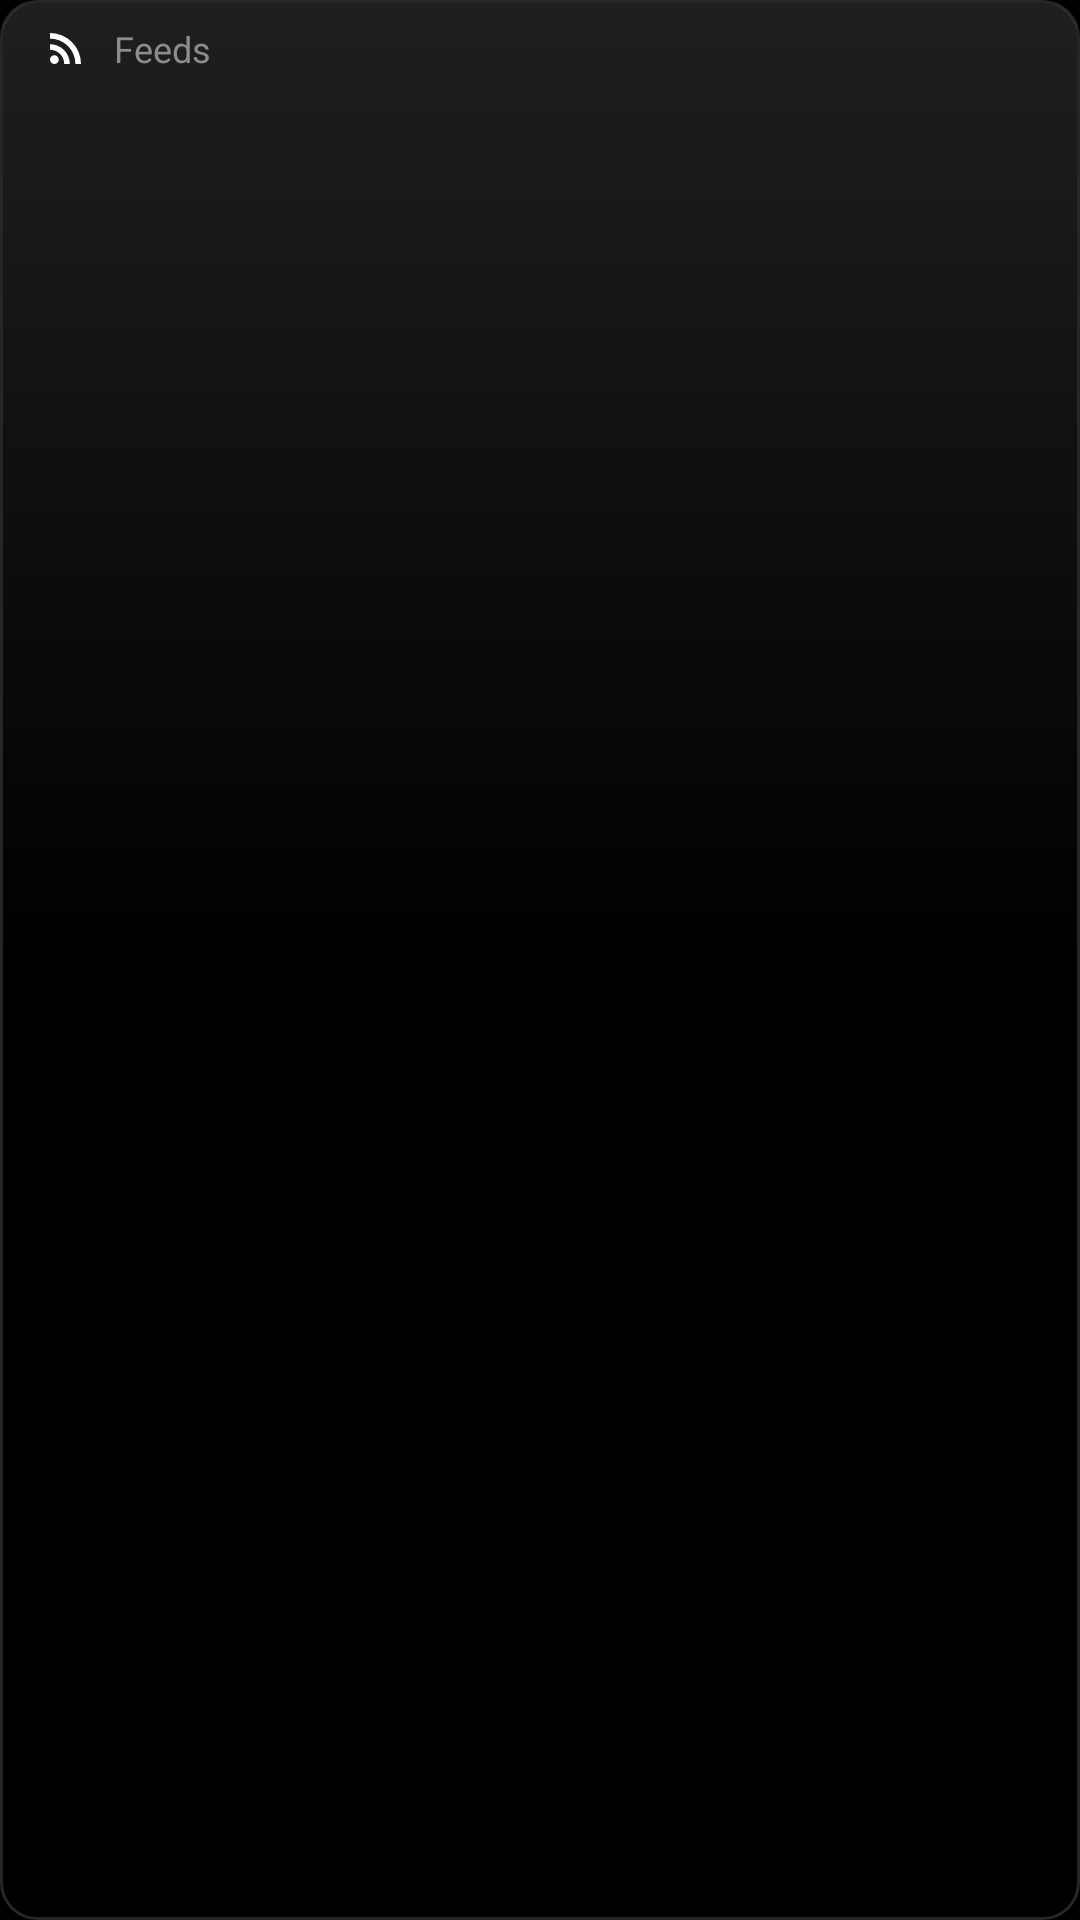

Point at icon controls on the screen. Image size 1080x1920, points as point (x, y).
belle feed glyph: point (65, 48)
